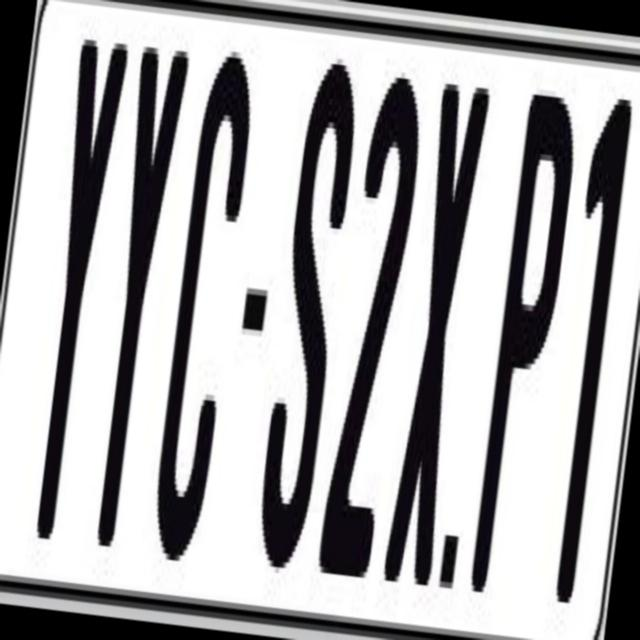1: (536, 79, 638, 592)
2: (313, 69, 432, 578)
C: (142, 42, 261, 575)
P: (463, 87, 577, 619)
S: (252, 56, 364, 582)
X: (378, 71, 490, 597)
Y: (79, 28, 195, 550), (22, 21, 137, 525)
